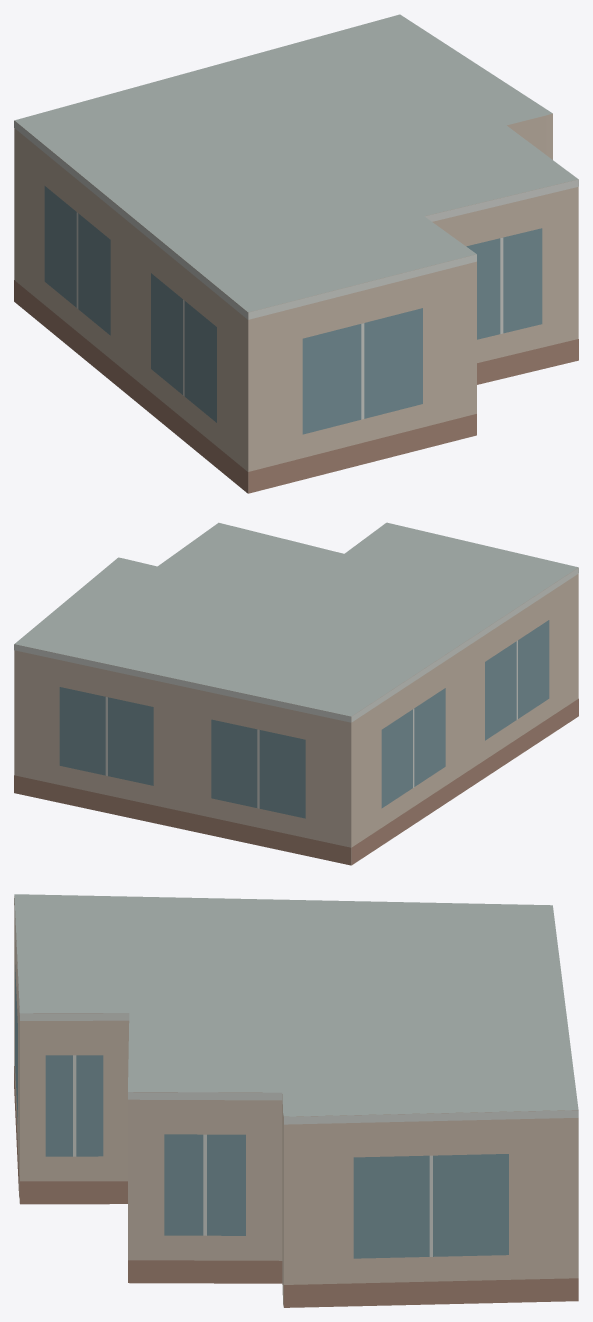
The model's file is survey-upis-32637762.glb.
The picture shows the model from 3 angles, top to bottom: view 1: azimuth 30°, elevation 25°; view 2: azimuth 150°, elevation 25°; view 3: azimuth 270°, elevation 25°; orthographic projection. The views are drawn at different scales.
Parts seen in each view (by area): view 1: survey-upis-32637762.tmp; view 2: survey-upis-32637762.tmp; view 3: survey-upis-32637762.tmp.
Boxes of the visible parts, bbox=[...] form: survey-upis-32637762.tmp: bbox=[14, 14, 578, 493]; survey-upis-32637762.tmp: bbox=[14, 522, 578, 865]; survey-upis-32637762.tmp: bbox=[14, 894, 578, 1307].
Size of the model in its own units: 7.63 by 3.05 by 8.18.
